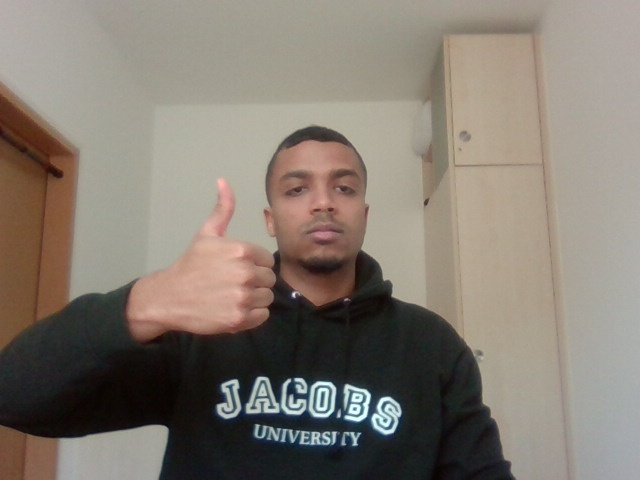perfect: (155, 167, 280, 364)
